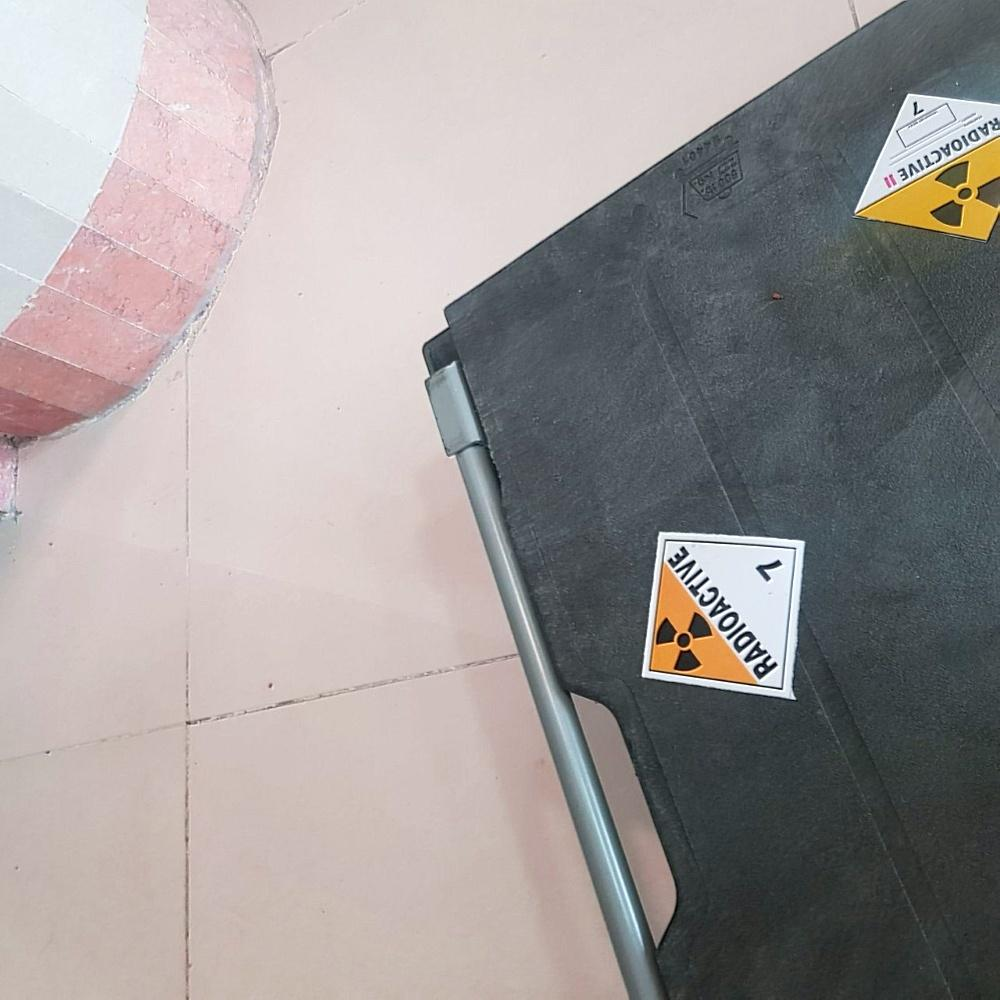radioactive: (633, 520, 811, 709), (852, 80, 999, 252)
